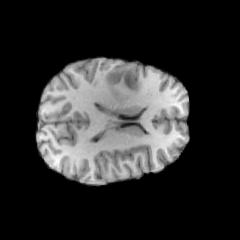glioma: (105, 64, 143, 100)
